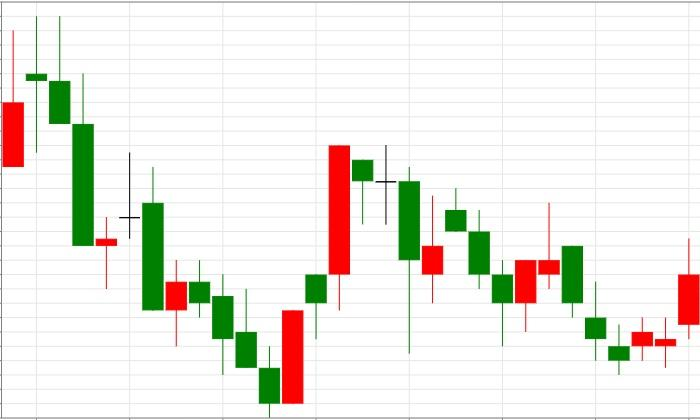hanging_man_fall: (281, 144, 373, 404)
